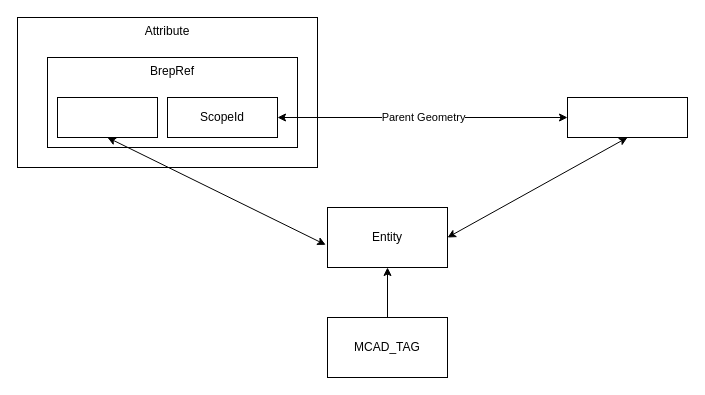
Some shapes in this 705 by 395 pixel diagram are drawn without their labels. Here are the shapes that lost their labels. From the top down, the centre of each, then its label:
At (107,117): "Recipe".
At (627,117): "Geometry".
